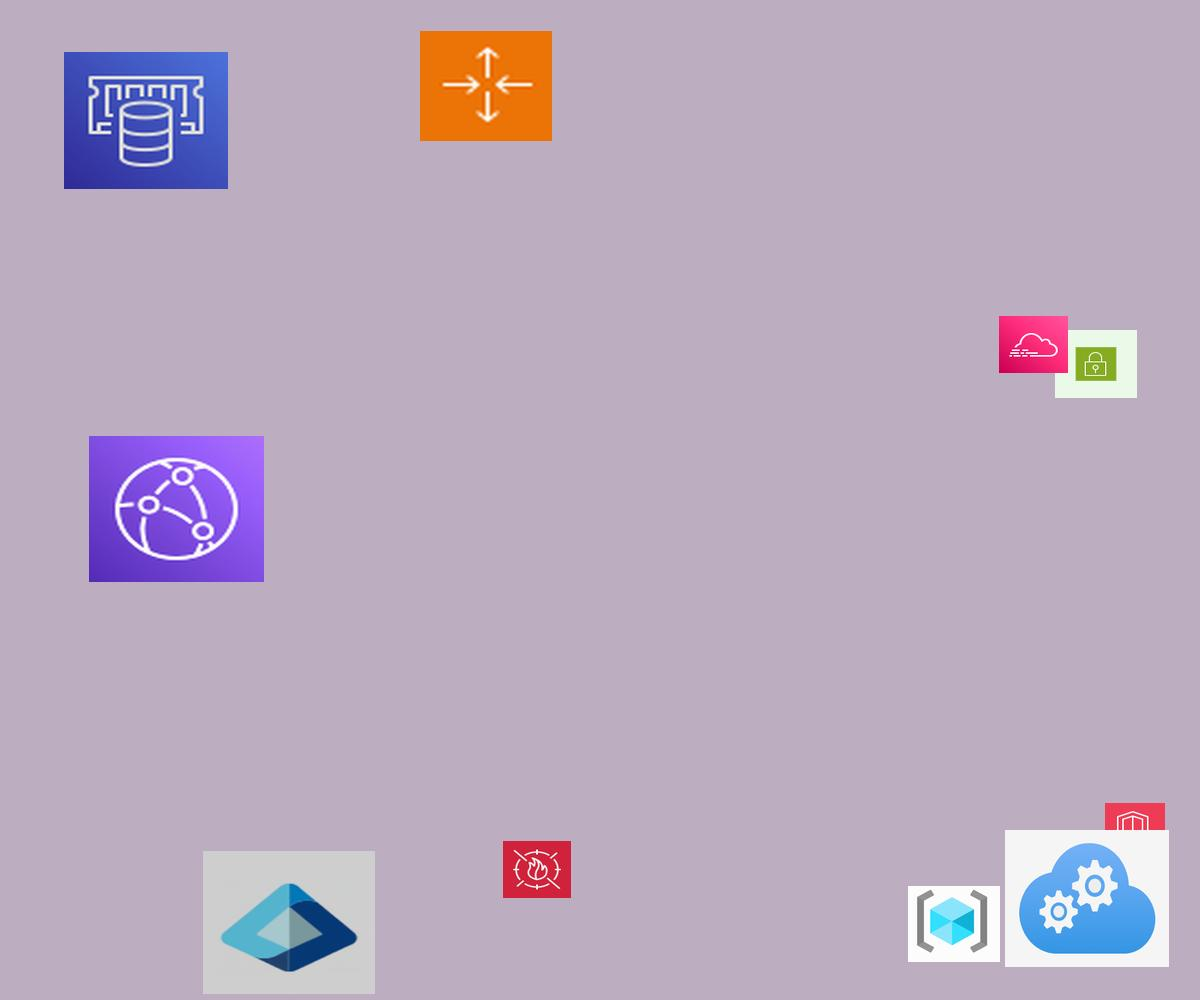AWS-CloudFront: (89, 436, 264, 582)
AWS-CloudTrail: (999, 316, 1068, 373)
AWS-ElastiCache: (64, 52, 228, 189)
AWS-Public-subnet: (1055, 330, 1137, 398)
AWS-Scaling-group: (420, 31, 552, 141)
AWS-Shield: (1105, 803, 1165, 853)
AWS-WAF: (503, 841, 571, 898)
Azure_cloud_services: (1005, 830, 1169, 967)
Azure_microsoft_entra: (203, 851, 375, 994)
Azure_resource_group: (908, 886, 1000, 962)
